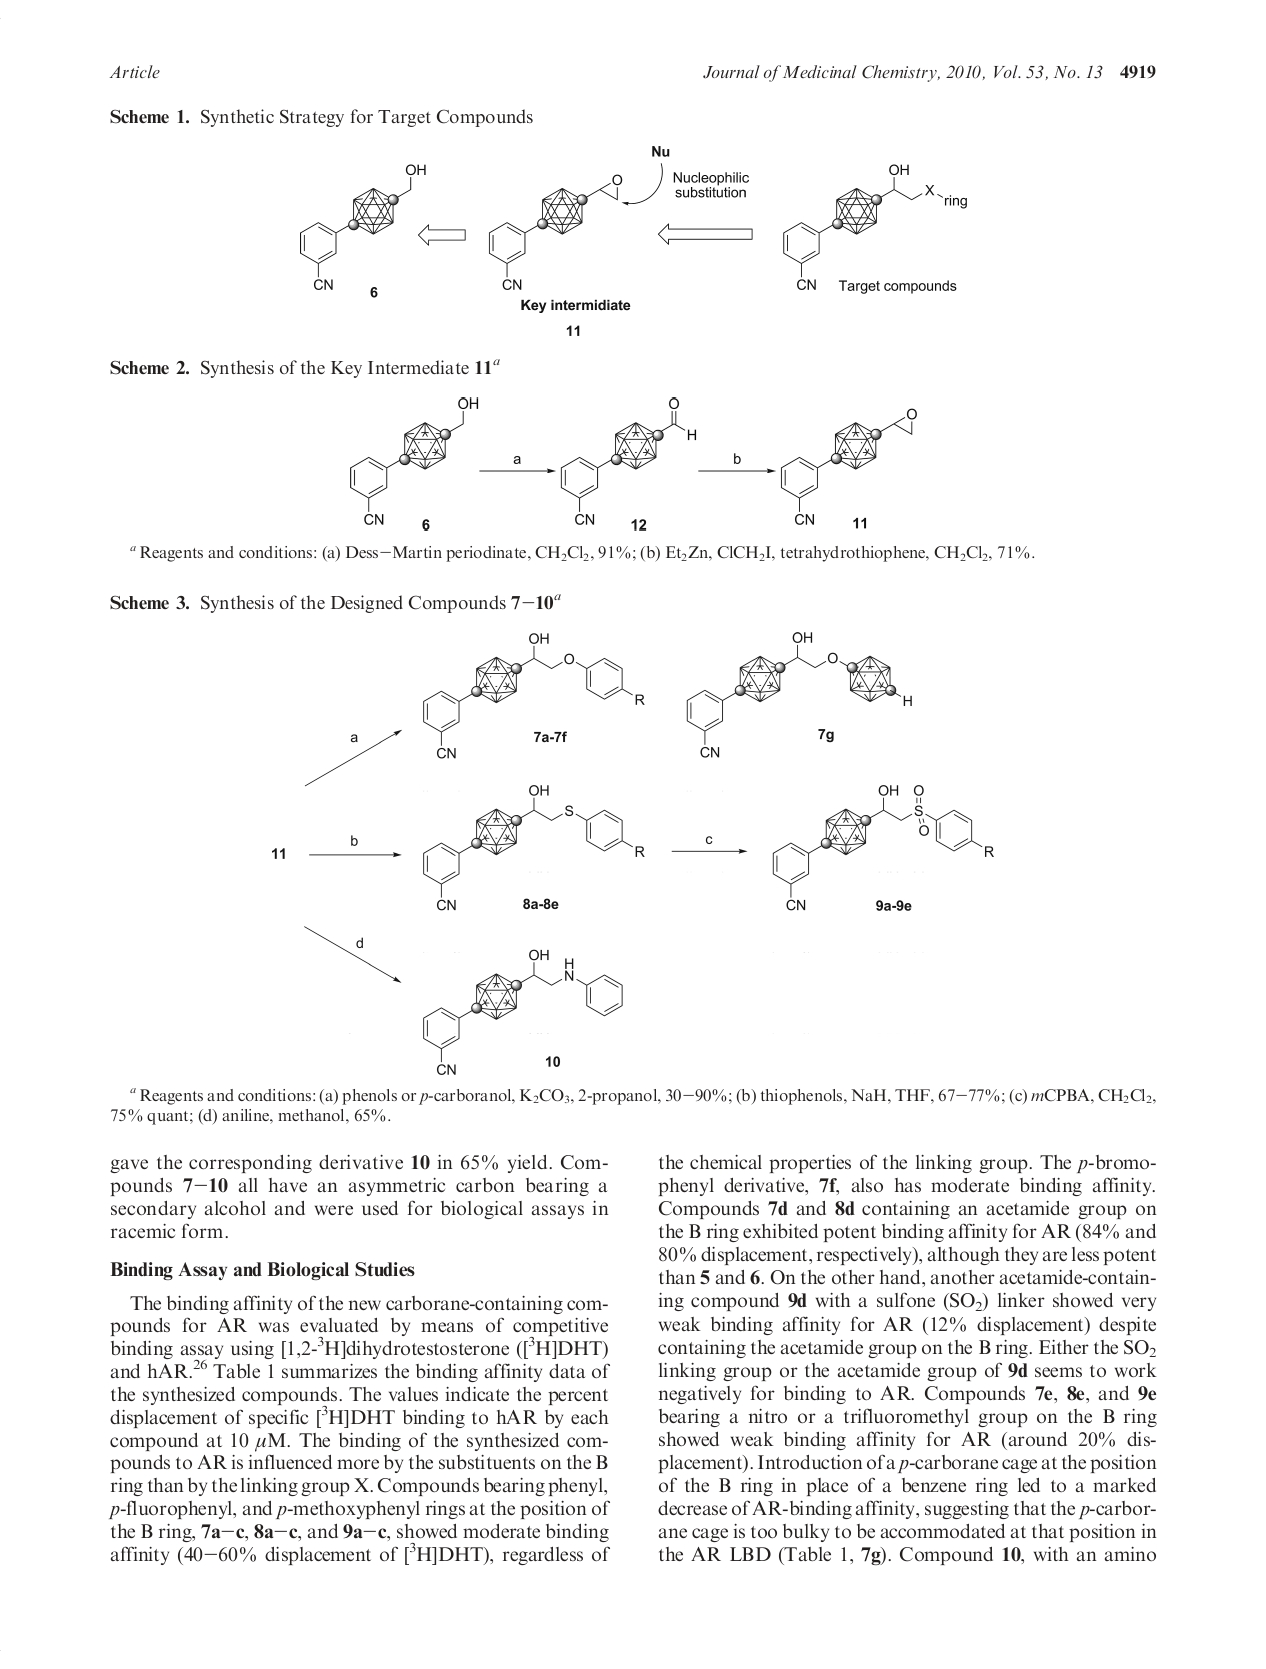exist_molecular: (770, 777, 995, 914), (422, 781, 654, 912), (684, 626, 914, 759), (420, 629, 648, 763), (420, 942, 625, 1076), (779, 161, 969, 293), (559, 396, 698, 529), (348, 394, 481, 529), (779, 406, 919, 528), (299, 160, 430, 290), (488, 169, 625, 293)
